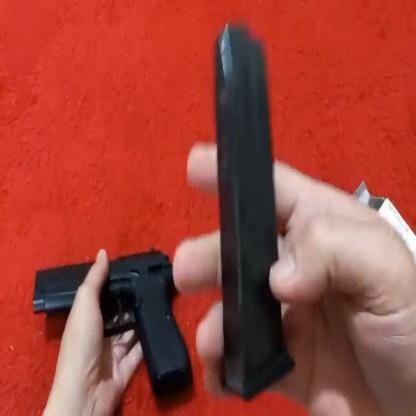handgun: (28, 253, 198, 402)
